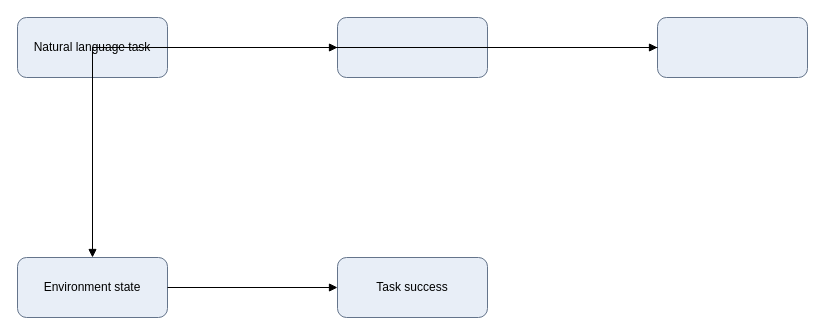
Some shapes in this 825 by 335 pixel diagram are drawn without their labels. The centre of each missing label's shape, as x and y in pixels:
Agent policy: the point at 412,47
Website interaction: the point at 732,47
